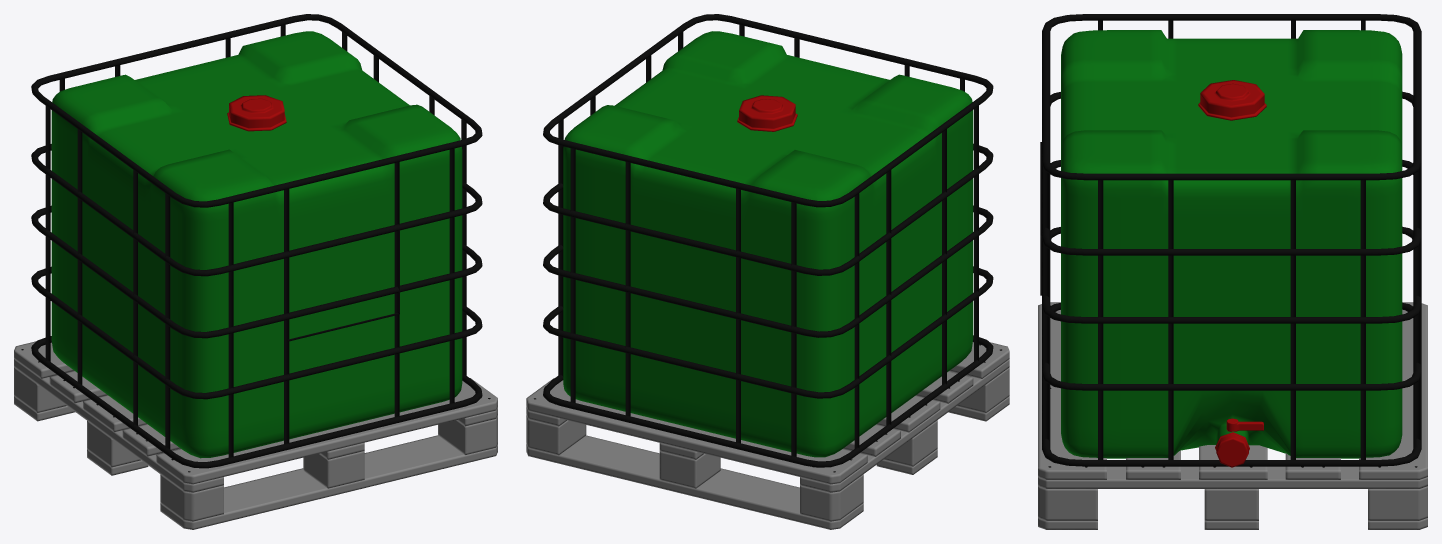
File: PlasticWaterTankOnPalletGreen.FBX
3 renders of one model, left to right at view 1: azimuth 30°, elevation 25°; view 2: azimuth 150°, elevation 25°; view 3: azimuth 270°, elevation 25°, orthographic. The views are drawn at different scales.
Parts seen in each view (by area): view 1: PWtank12, SPipe12, SFpipe31, Woodpc009, Woodpc006, WoodHld006, Wpnl018, WPCap12; view 2: PWtank12, SPipe12, SFpipe31, Woodpc009, Woodpc006, WoodHld006, Wpnl018, WPCap12; view 3: PWtank12, SPipe12, Woodpc009, SFpipe31, WoodHld006, Wpnl018, WPCap12, Woodpc006, FCap1.
Boxes of the visible parts, x1=… form: PWtank12: x1=51, y1=31, x2=462, y2=458; SPipe12: x1=31, y1=14, x2=482, y2=468; SFpipe31: x1=45, y1=25, x2=466, y2=457; Woodpc009: x1=14, y1=341, x2=497, y2=484; Woodpc006: x1=14, y1=396, x2=497, y2=529; WoodHld006: x1=14, y1=367, x2=497, y2=521; Wpnl018: x1=14, y1=359, x2=497, y2=492; WPCap12: x1=227, y1=95, x2=286, y2=131; PWtank12: x1=563, y1=31, x2=973, y2=457; SPipe12: x1=543, y1=14, x2=993, y2=467; SFpipe31: x1=558, y1=24, x2=978, y2=457; Woodpc009: x1=526, y1=342, x2=1009, y2=484; Woodpc006: x1=526, y1=396, x2=1009, y2=529; WoodHld006: x1=526, y1=367, x2=1009, y2=521; Wpnl018: x1=526, y1=359, x2=1009, y2=492; WPCap12: x1=737, y1=95, x2=797, y2=131; PWtank12: x1=1061, y1=30, x2=1402, y2=458; SPipe12: x1=1042, y1=14, x2=1421, y2=466; Woodpc009: x1=1038, y1=302, x2=1427, y2=479; SFpipe31: x1=1043, y1=20, x2=1420, y2=459; WoodHld006: x1=1038, y1=486, x2=1427, y2=520; Wpnl018: x1=1038, y1=466, x2=1427, y2=488; WPCap12: x1=1198, y1=80, x2=1266, y2=120; Woodpc006: x1=1038, y1=518, x2=1427, y2=529; FCap1: x1=1215, y1=432, x2=1249, y2=467.
Bounding box in the file's own units: 126 × 123 × 122.
